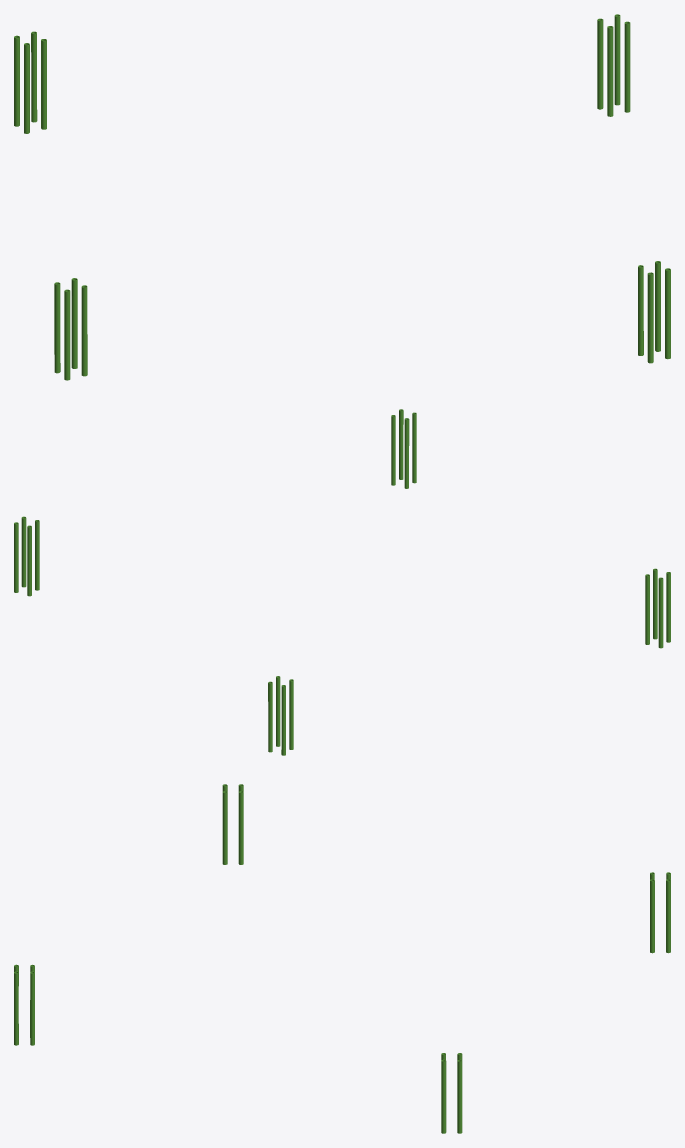
3 views of the same model, one above another, from view 1: azimuth 30°, elevation 25°; view 2: azimuth 150°, elevation 25°; view 3: azimuth 270°, elevation 25° (orthographic). The views are drawn at different scales.
Visible parts, largest first — view 1: structure-0-11-0; view 2: structure-0-11-0; view 3: structure-0-11-0.
Part boxes in pixels (bbox=[...]): structure-0-11-0: bbox=[14, 14, 670, 380]; structure-0-11-0: bbox=[14, 409, 670, 755]; structure-0-11-0: bbox=[14, 784, 670, 1133].
Bounding box in the file's own units: 3.57 × 0.4317 × 3.57.
